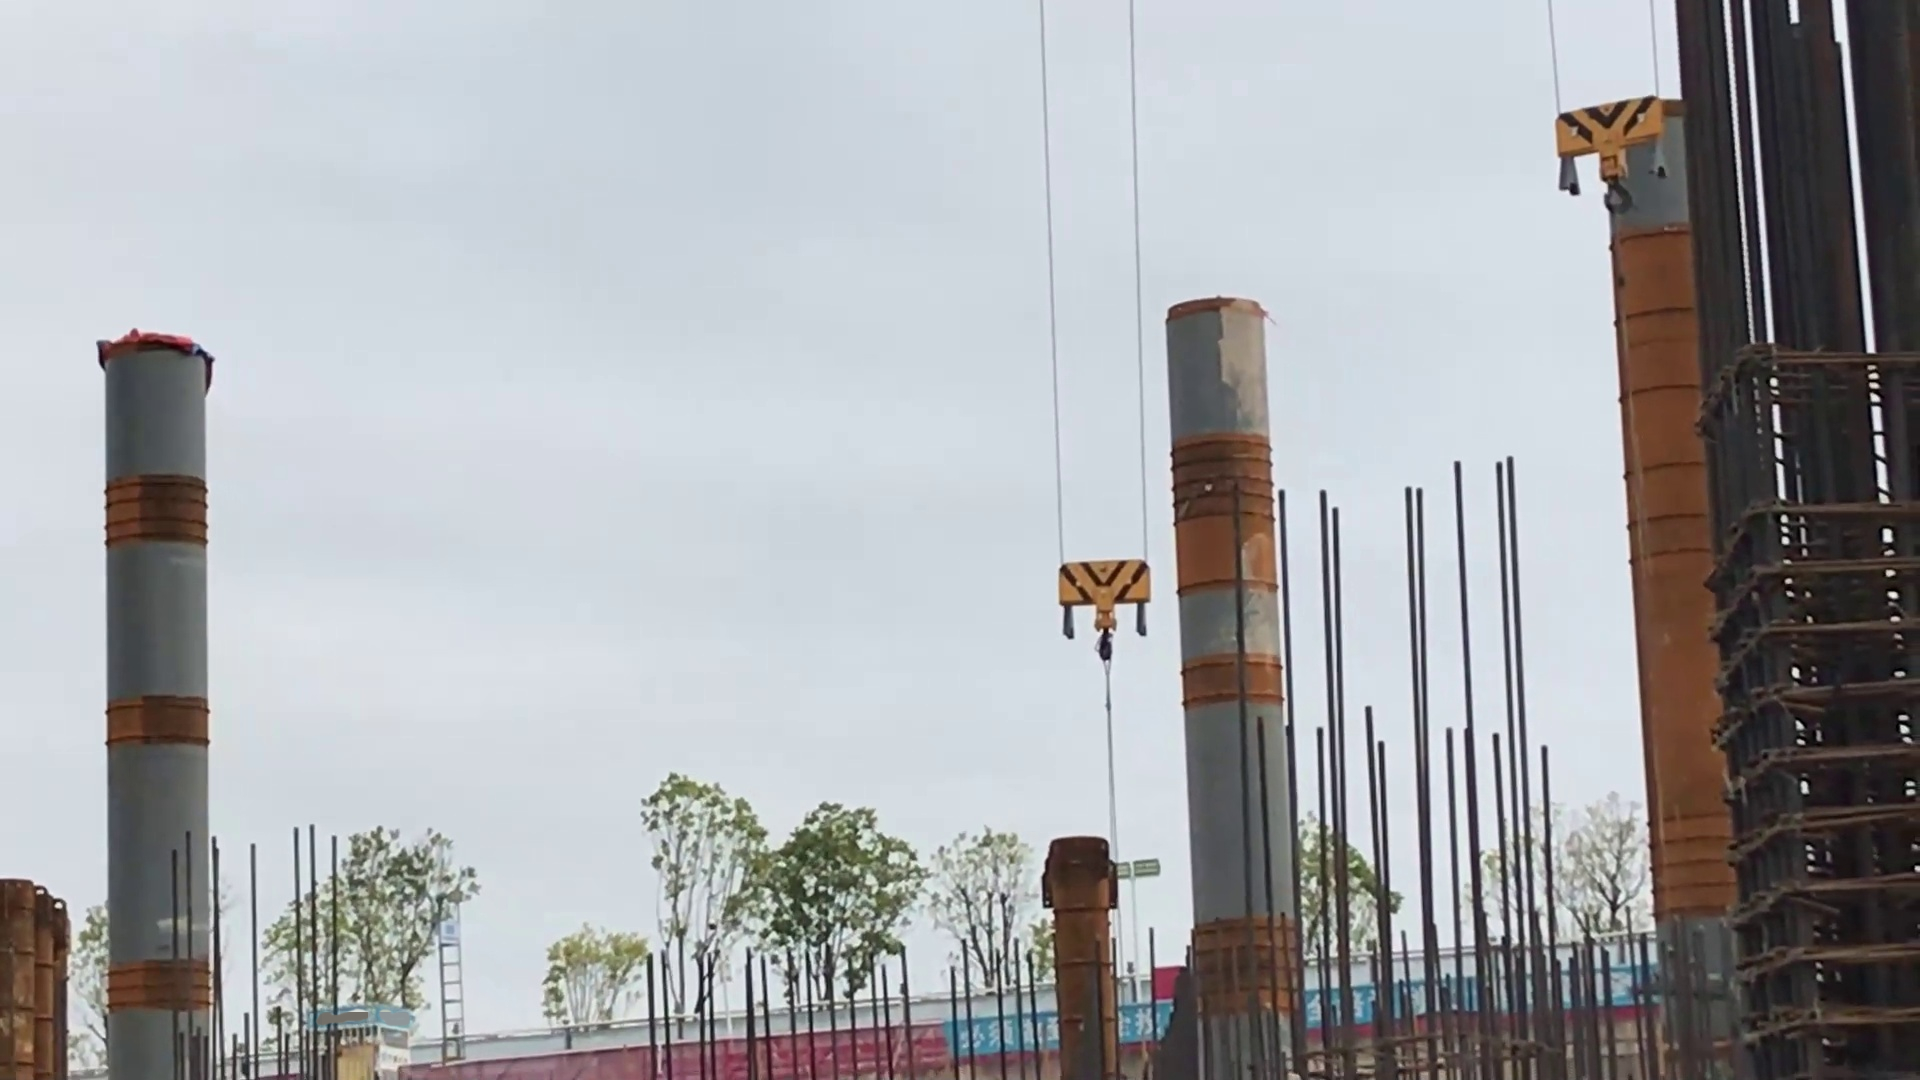fence: (397, 978, 1677, 1076)
hook: (1543, 98, 1675, 216), (1047, 556, 1168, 657)
slogan: (938, 968, 1664, 1056)
